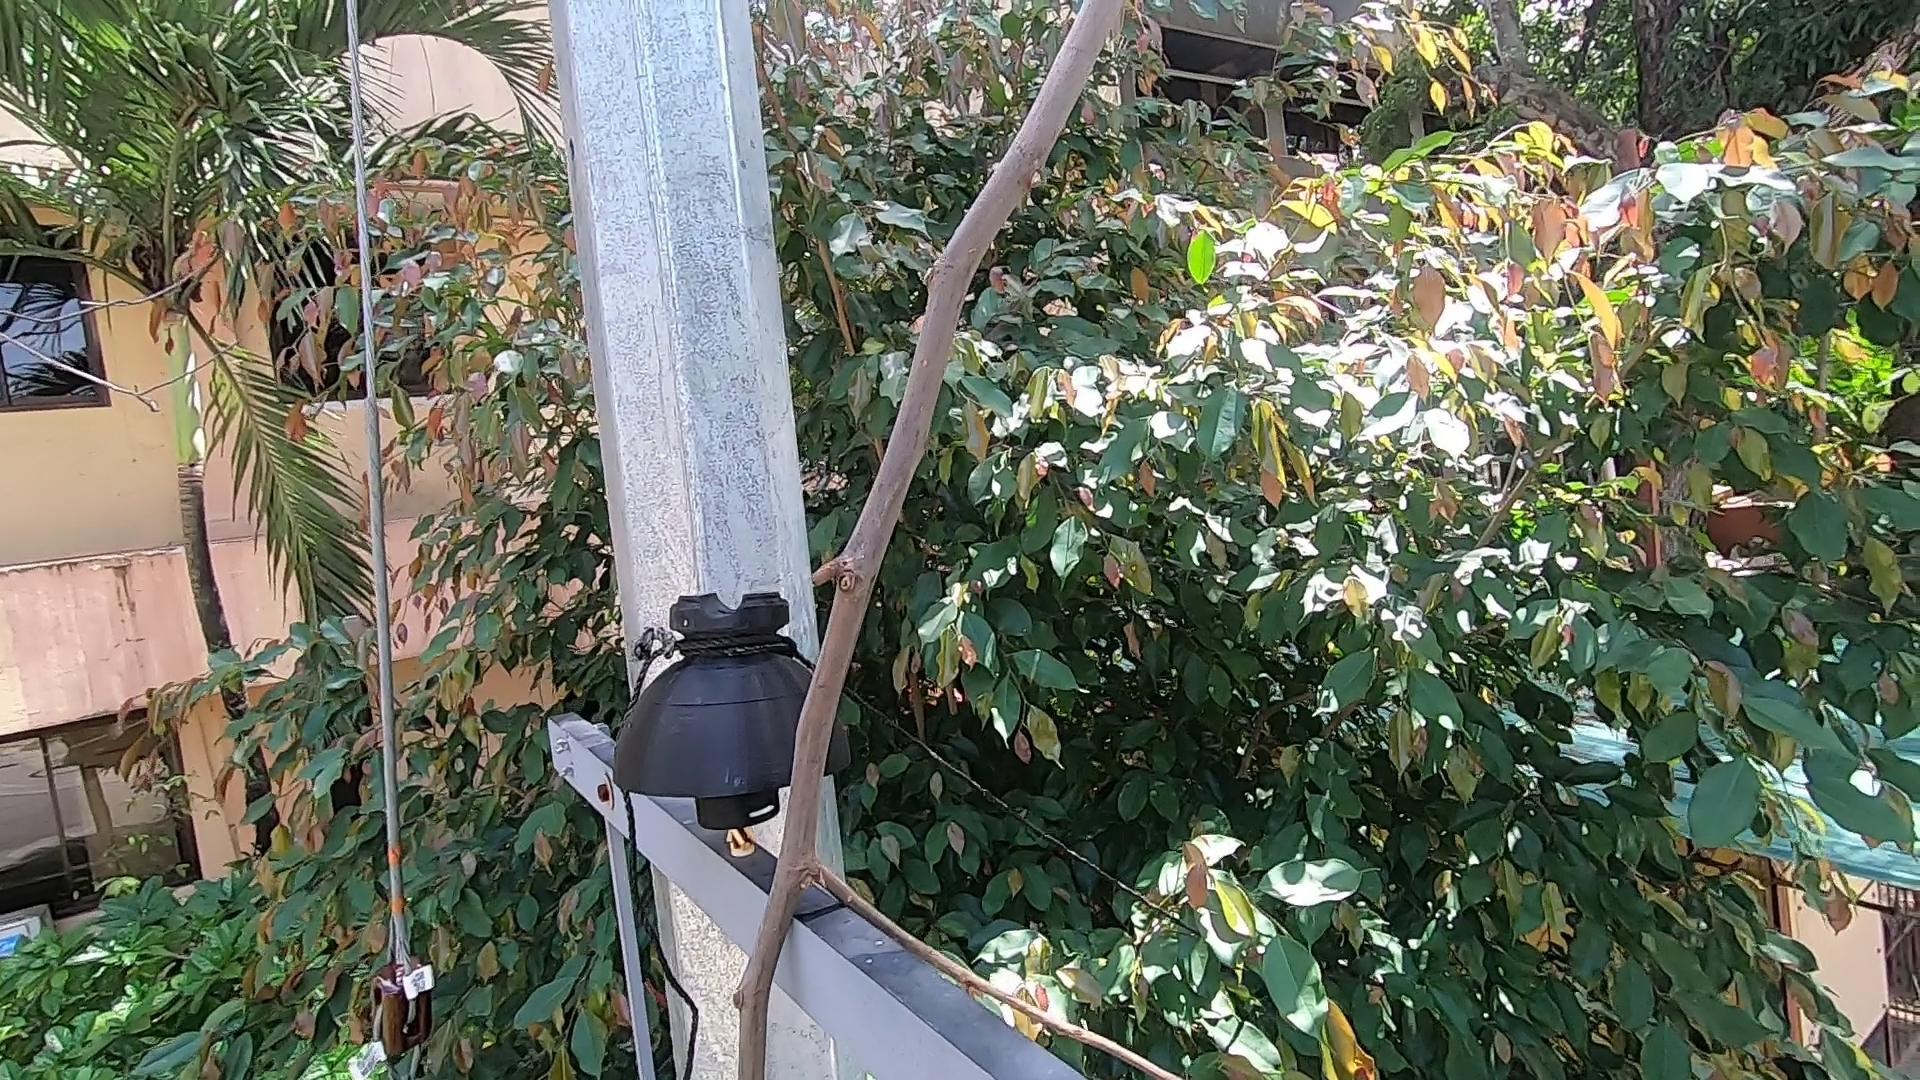tree branch: (738, 15, 1062, 1080)
